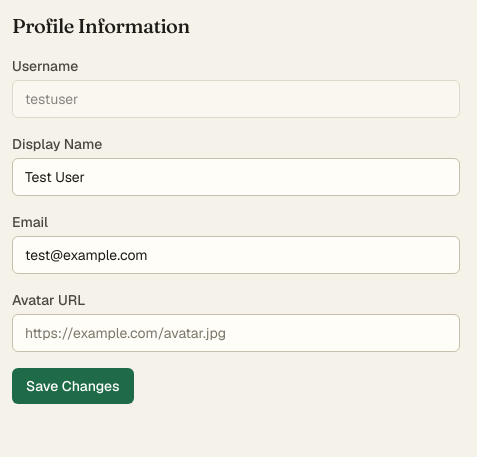
Test: ProfileForm › should show error toast and inline error on failure
This screenshot has width=477, height=457.
Click the button "Save Changes": click(73, 386) [12,368,134,404]
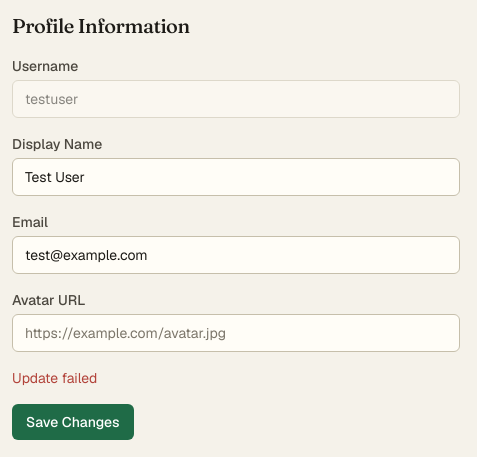
Check: the text "Update failed" is shown, box [12,369,97,387]
